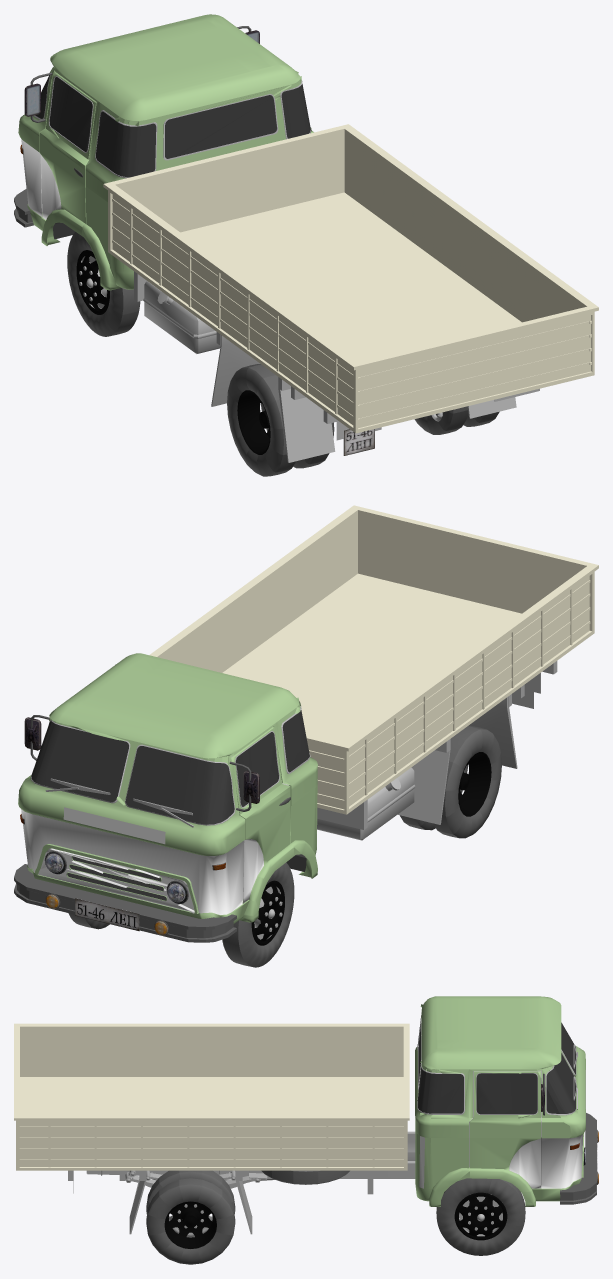
Rendered from truck_4.dae.
3 views of the same model, one above another, from view 1: azimuth 30°, elevation 25°; view 2: azimuth 150°, elevation 25°; view 3: azimuth 270°, elevation 25° (orthographic). The views are drawn at different scales.
Visible parts, largest first — view 1: Box04, ChamferBox, Truck_4, wheel_rb01, wheel01, wheel_lb02, Box05; view 2: Box04, ChamferBox, Truck_4, wheel_rb01, Box01, wheel01, Plane01, Box02, Box05, Box06; view 3: Box04, ChamferBox, Truck_4, wheel_rb02, wheel02, chassis, Box01, wheel_lb02, extra.
Boxes of the visible parts, x1,y1,x2,y2 form: Box04: (103, 124, 598, 433); ChamferBox: (18, 14, 313, 290); Truck_4: (20, 75, 539, 462); wheel_rb01: (227, 364, 295, 476); wheel01: (67, 232, 140, 336); wheel_lb02: (414, 406, 468, 434); Box05: (24, 72, 52, 122); Box04: (149, 505, 598, 814); ChamferBox: (18, 653, 317, 923); Truck_4: (20, 661, 557, 935); wheel_rb01: (433, 725, 501, 838); Box01: (14, 864, 236, 942); wheel01: (222, 862, 294, 967); Plane01: (63, 807, 165, 844); Box02: (75, 898, 139, 931); Box05: (229, 761, 259, 811); Box06: (24, 715, 49, 760); Box04: (14, 1023, 409, 1170); ChamferBox: (415, 996, 585, 1206); Truck_4: (68, 1013, 598, 1234); wheel_rb02: (146, 1178, 235, 1264); wheel02: (436, 1178, 525, 1255); chassis: (86, 1131, 415, 1188); Box01: (560, 1113, 596, 1204); wheel_lb02: (146, 1170, 235, 1237); extra: (261, 1170, 349, 1184).
Bounding box in the file's own units: 298 × 291 × 779.
